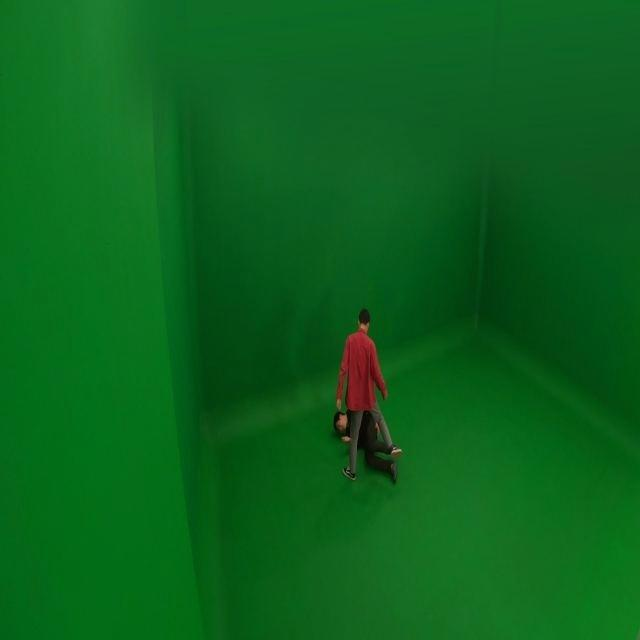fight: (331, 307, 401, 485)
